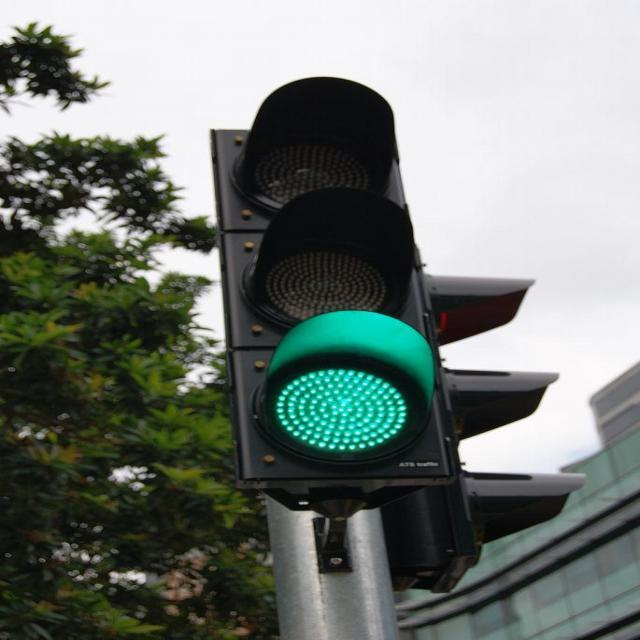green_light: (206, 76, 463, 476)
